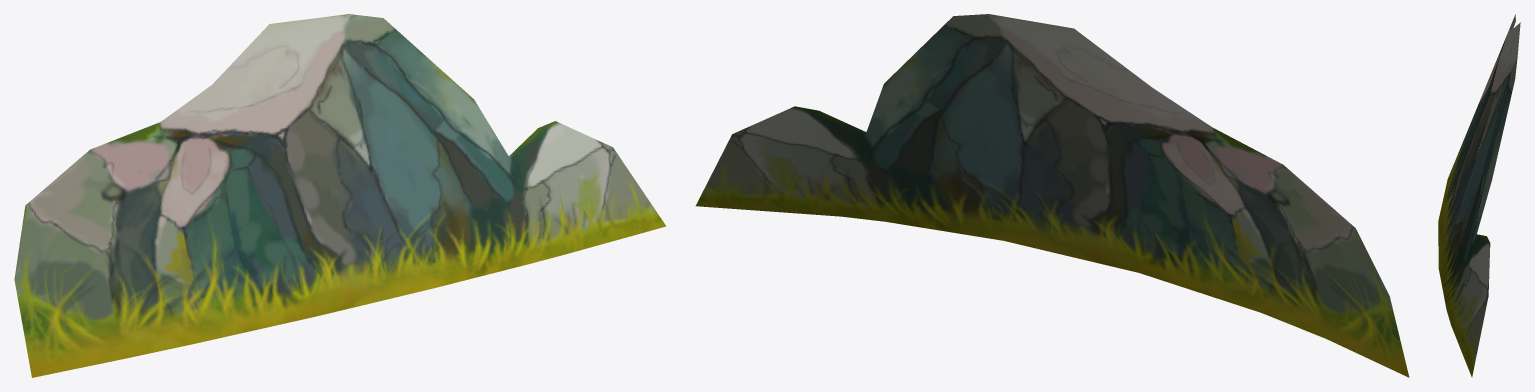
Rendered from sences_changbanpo_guanmu006.FBX.
The picture shows the model from 3 angles, left to right: view 1: azimuth 30°, elevation 25°; view 2: azimuth 150°, elevation 25°; view 3: azimuth 270°, elevation 25°; orthographic projection. The views are drawn at different scales.
Visible parts, largest first — view 1: sences_changbanpo_guanmu006; view 2: sences_changbanpo_guanmu006; view 3: sences_changbanpo_guanmu006.
Boxes of the visible parts, <box> form: sences_changbanpo_guanmu006: <box>14,14,666,377</box>; sences_changbanpo_guanmu006: <box>695,14,1409,377</box>; sences_changbanpo_guanmu006: <box>1438,14,1520,377</box>.
Size of the model in its own units: 4.04 by 0.5715 by 1.64.
